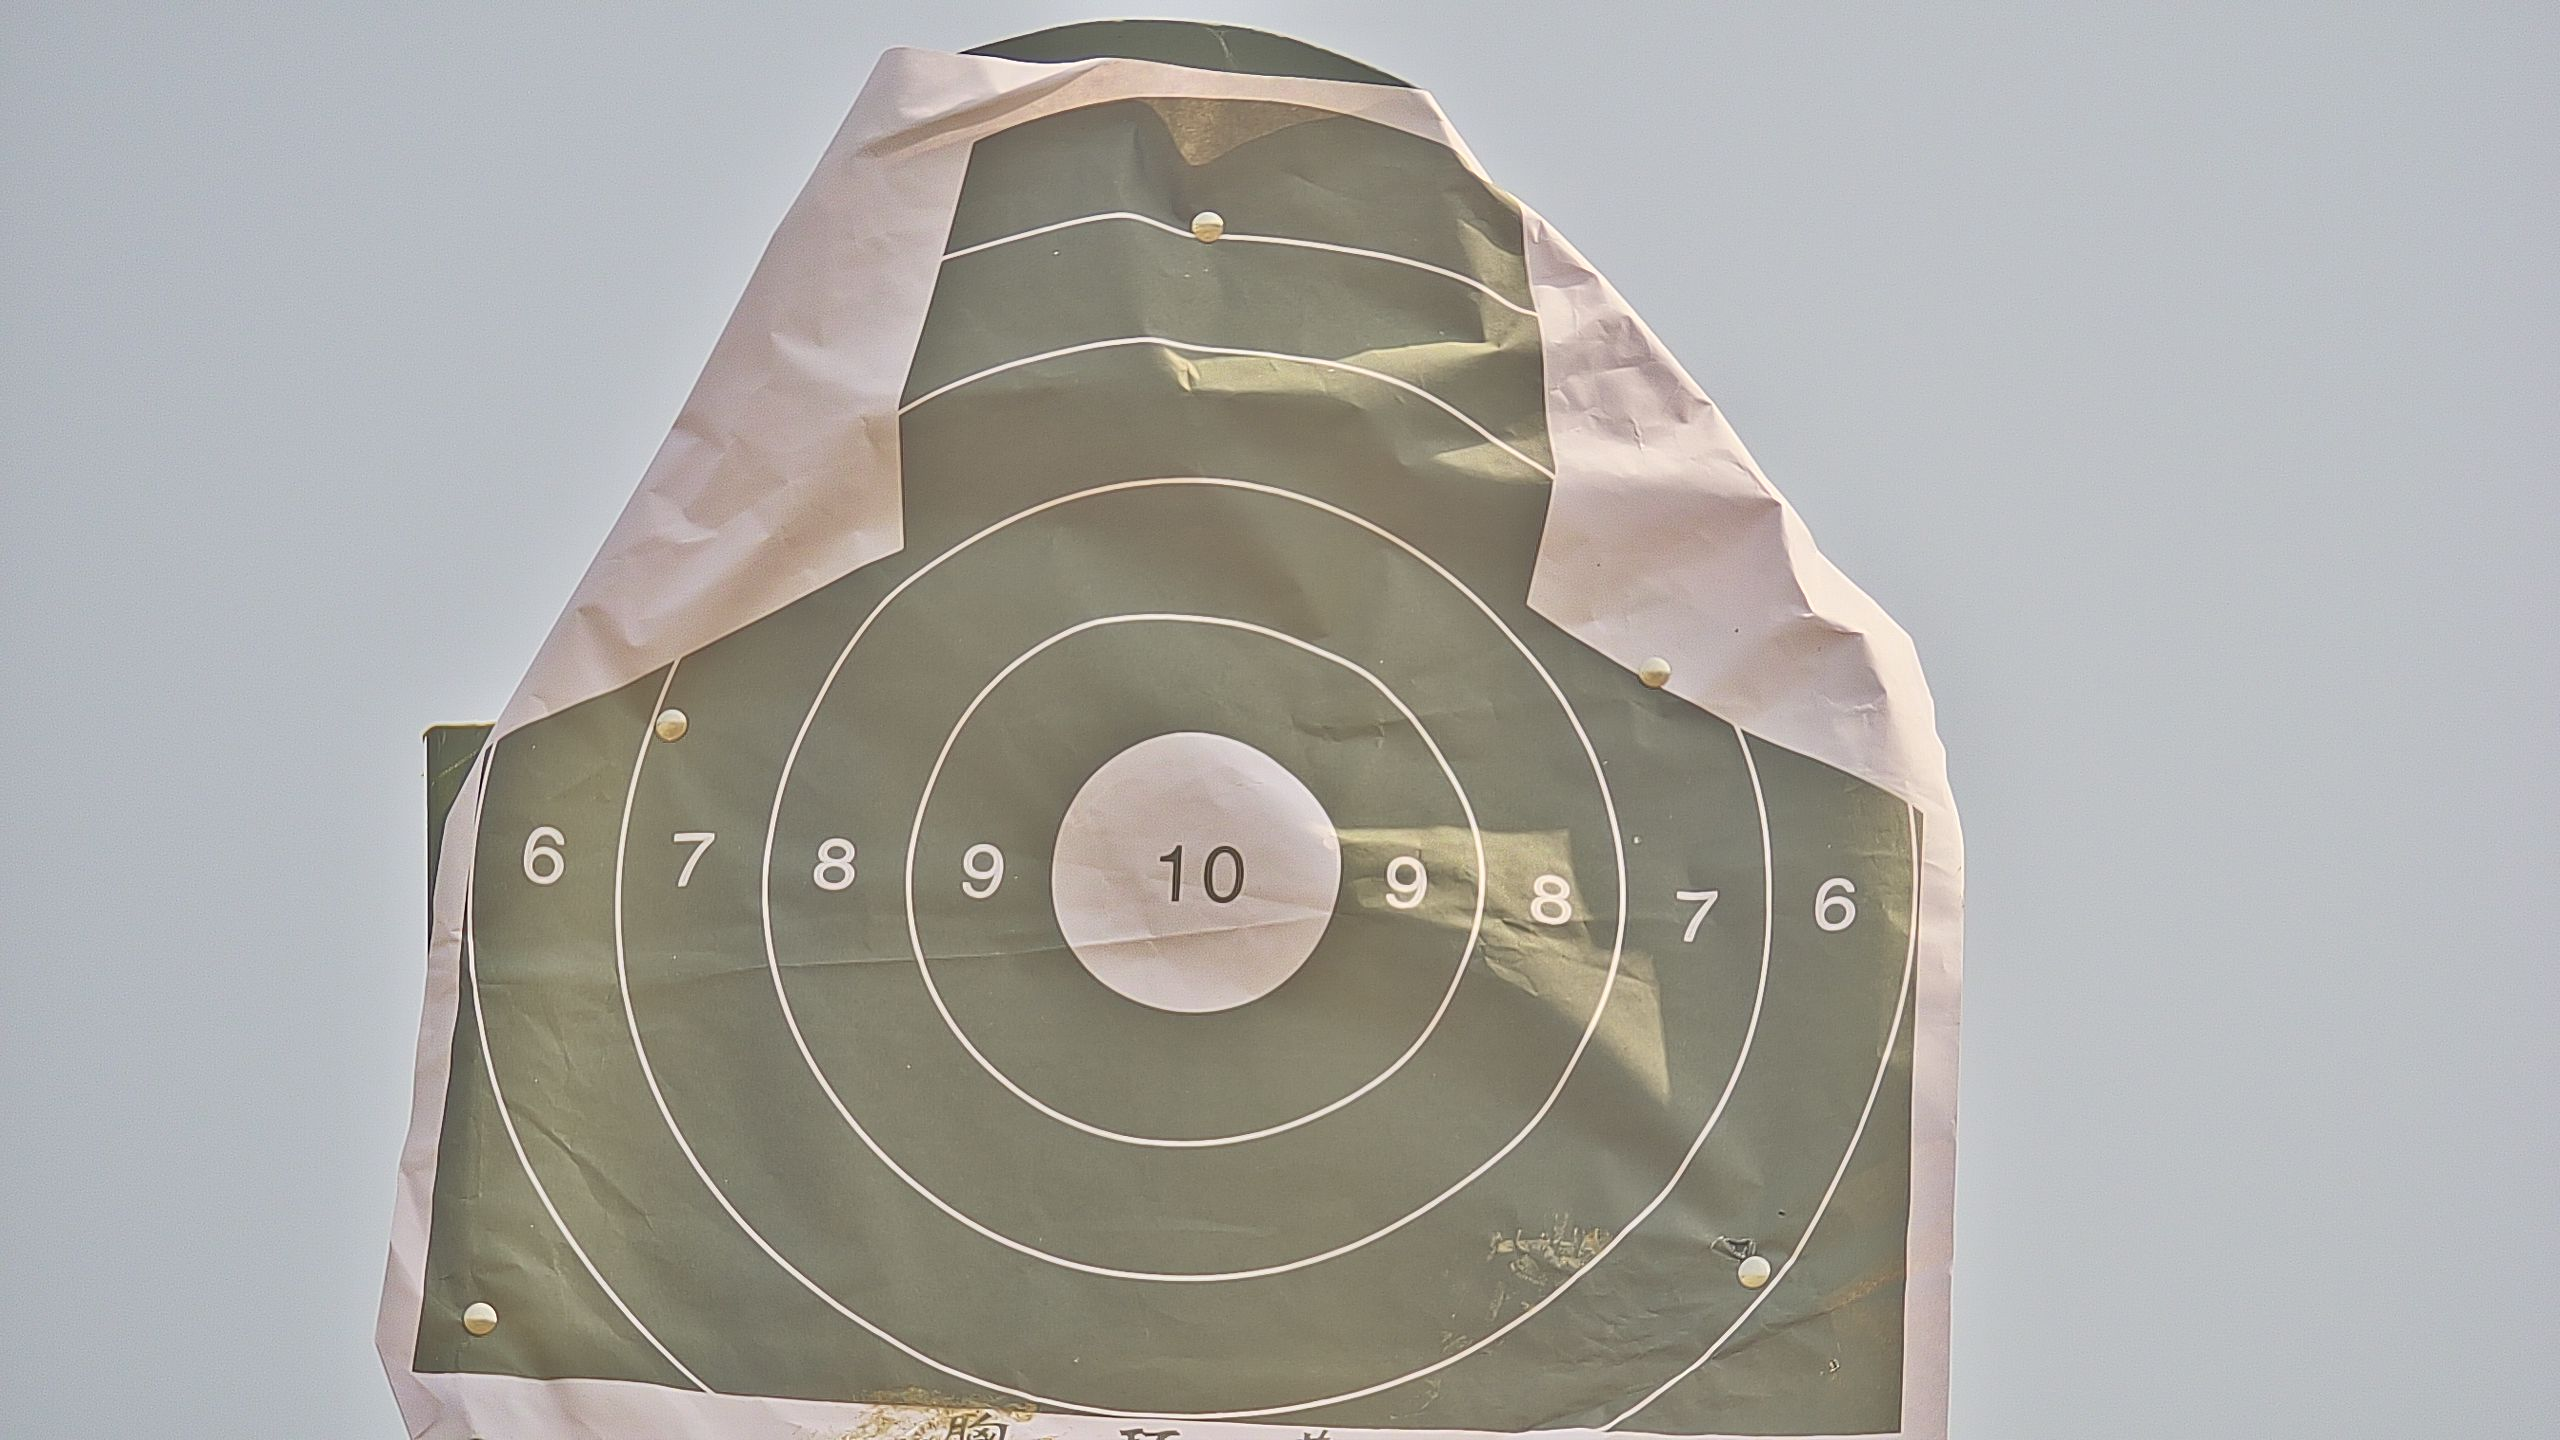kernel: (1194, 877, 1199, 883)
target: (404, 95, 1929, 1440)
ten: (1053, 733, 1342, 1015)
